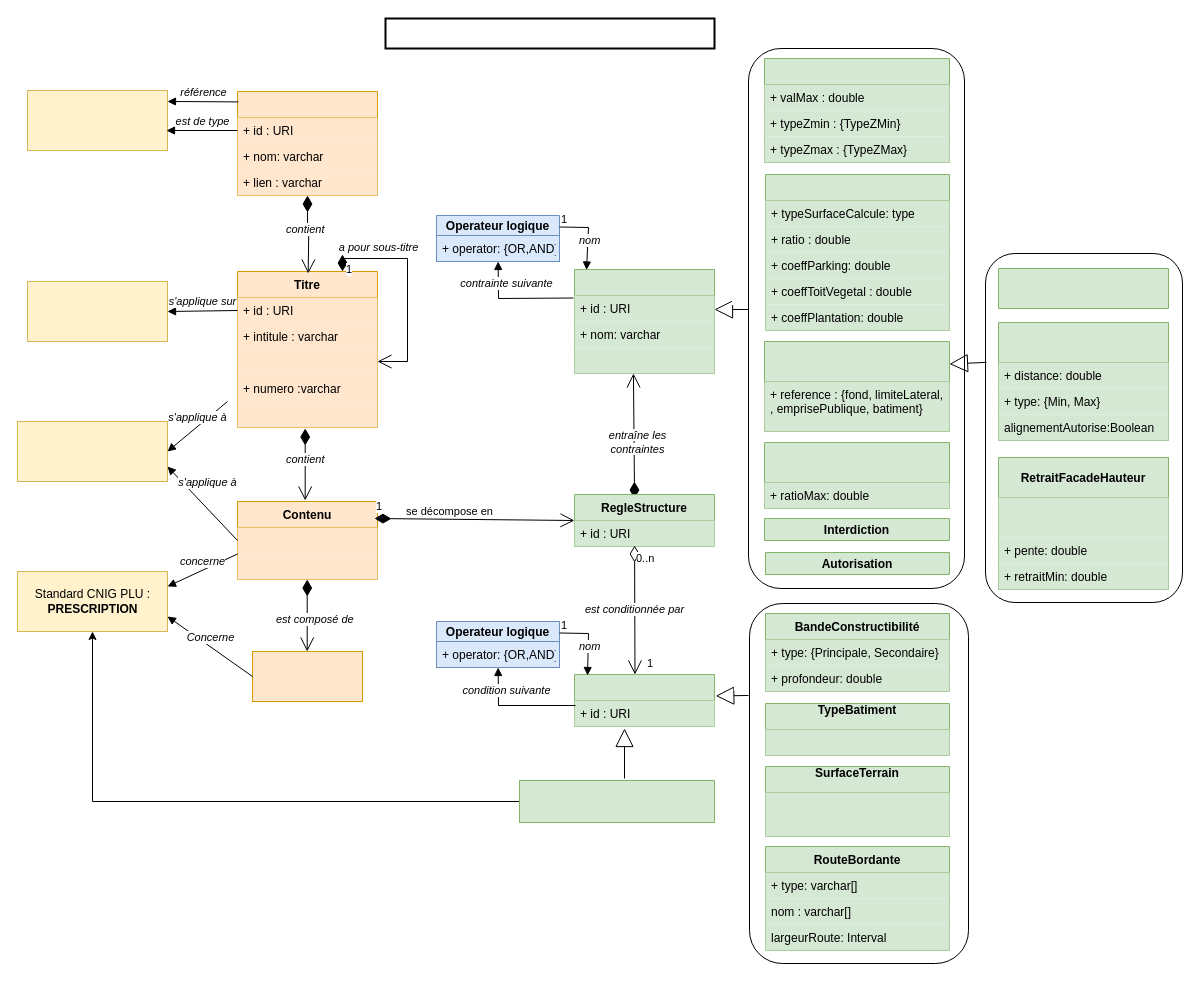
The diagram is 1200 pixels wide and 981 high, and some of its shapes have lost their labels. The shapes that lost their labels are listed below. From the top down, each one's box as (x1, y1, x2, y2) in pixels, then its label:
(384, 17, 715, 49): Standard CNIG SRU niveau 2 - 23/12/2022
(26, 90, 168, 150): Standard CNIG PLU : DOC_URBA
(764, 58, 950, 162): Hauteur
(236, 90, 378, 196): ReglementPLU
(764, 174, 950, 330): CoefficientBiotope
(998, 268, 1168, 308): Alignement
(26, 280, 168, 342): Standard CNIG PLU : DOC_URBA_COM
(574, 268, 714, 374): ContrainteUnitaire
(237, 349, 377, 375): + niveau: integer
(574, 347, 714, 373): + type: varchar
(764, 340, 950, 432): RetraitAlignement
(998, 322, 1168, 440): Retrait
(237, 401, 377, 427): + href:URI
(16, 420, 168, 482): Standard CNIG PLU : ZONE_URBA
(764, 442, 950, 508): RatioEmpriseSol
(998, 497, 1168, 537): + typeFace : {AvecVue, SansVue, Toutes}
(237, 527, 377, 553): + id: URI
(237, 553, 377, 579): + href: URI
(252, 650, 362, 702): «Union» HTML
(574, 674, 714, 726): ConditionUnitaire
(765, 729, 949, 755): + destination: varchar[]
(518, 780, 714, 822): ContrainteUnitaireSpécifique
(765, 792, 949, 836): + aireMin: double precision + aireMax: double precision
